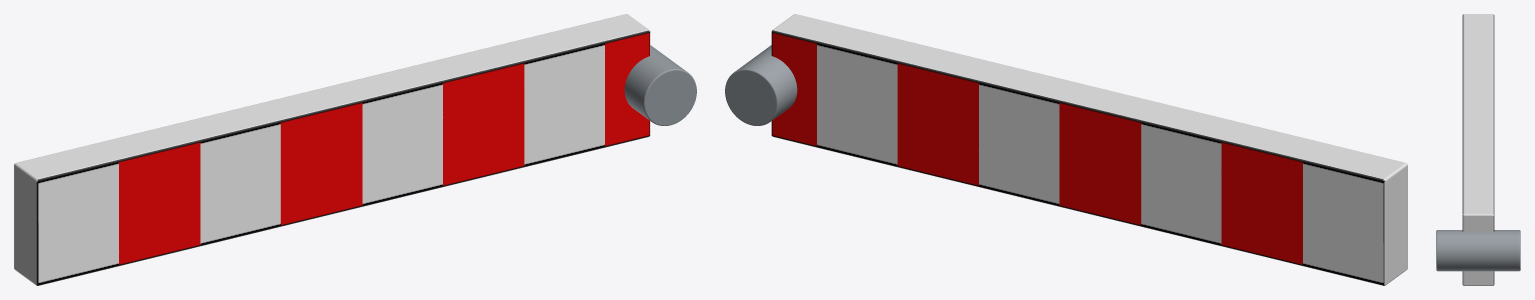
The model's file is barrier_arm_visual.dae.
3 renders of one model, left to right at view 1: azimuth 30°, elevation 25°; view 2: azimuth 150°, elevation 25°; view 3: azimuth 270°, elevation 25°, orthographic. The views are drawn at different scales.
Parts seen in each view (by area): view 1: g1, g0, g2; view 2: g1, g0, g2; view 3: g0, g2, g1.
Part boxes in pixels (x1=…): g1: x1=36, y1=30, x2=650, y2=285; g0: x1=14, y1=14, x2=650, y2=285; g2: x1=624, y1=45, x2=696, y2=125; g1: x1=771, y1=30, x2=1385, y2=285; g0: x1=771, y1=14, x2=1407, y2=285; g2: x1=725, y1=45, x2=797, y2=125; g0: x1=1463, y1=14, x2=1493, y2=285; g2: x1=1436, y1=230, x2=1520, y2=271; g1: x1=1462, y1=14, x2=1494, y2=285.
Bounding box in the file's own units: 0.313 × 0.053 × 0.05.
Materials: 3 (1 with a texture image).
